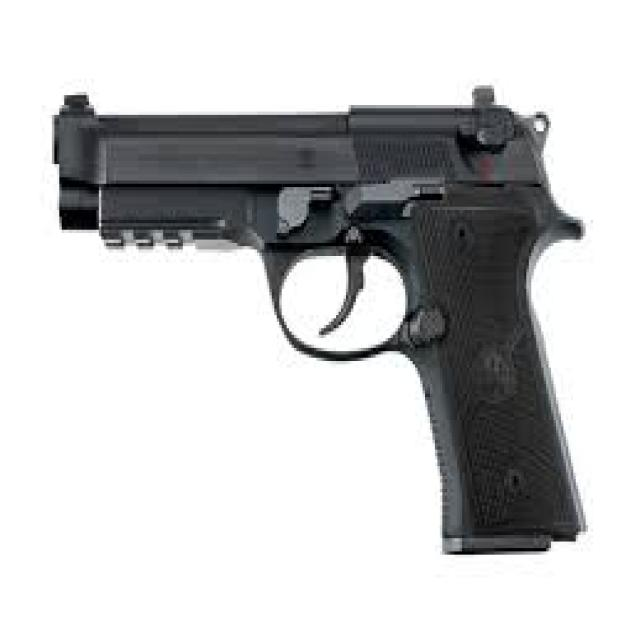pistol: (44, 75, 596, 558)
